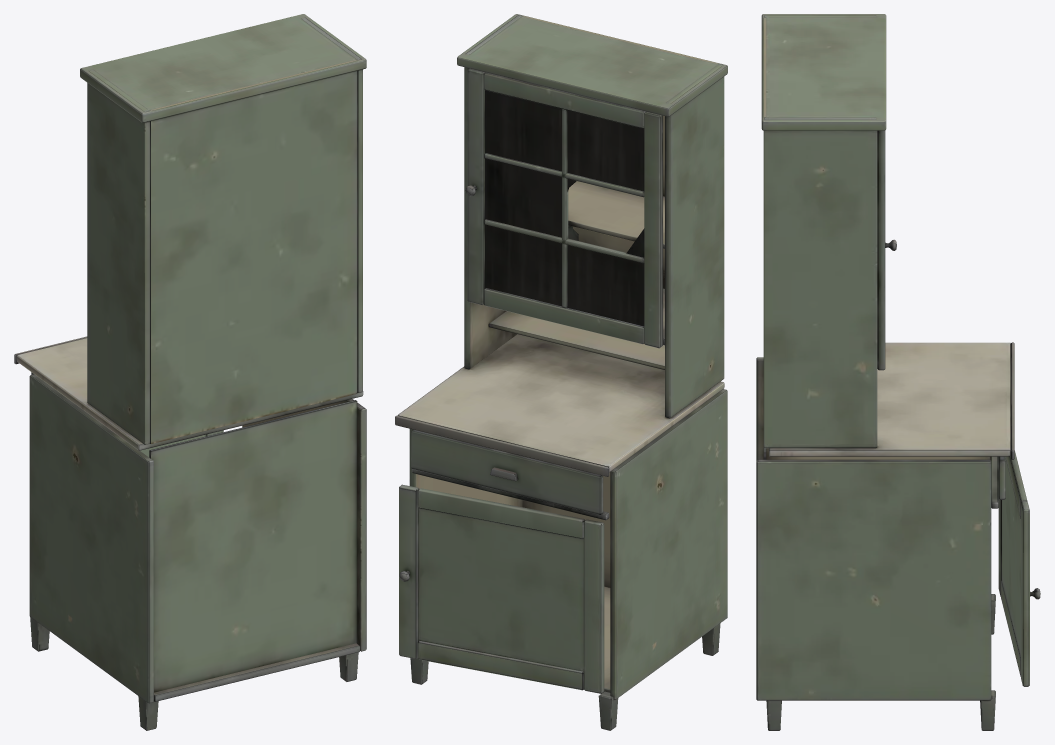
The model's file is furniture_cabinet_narrow.glb.
3 renders of one model, left to right at view 1: azimuth 30°, elevation 25°; view 2: azimuth 150°, elevation 25°; view 3: azimuth 270°, elevation 25°, orthographic. The views are drawn at different scales.
Visible parts, largest first — view 1: furniture_cabinet_narrow; view 2: furniture_cabinet_narrow; view 3: furniture_cabinet_narrow.
Part boxes in pixels (box(x1,y1,x2,y2)): furniture_cabinet_narrow: box(14, 14, 366, 730); furniture_cabinet_narrow: box(395, 14, 727, 730); furniture_cabinet_narrow: box(756, 14, 1040, 730).
Size of the model in its own units: 0.724 by 1.9 by 0.798.
1 material, 1 textured.
